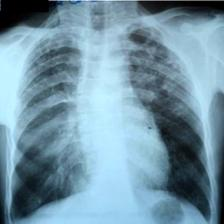tuberculosis: (10, 17, 216, 224)
